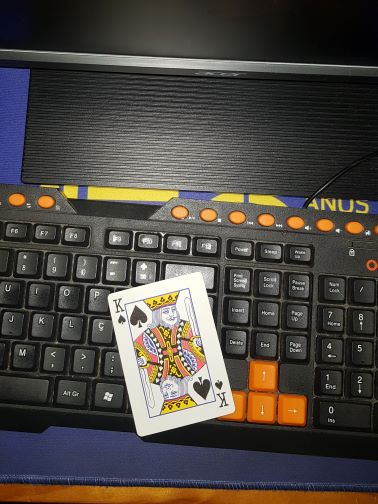king: (106, 271, 238, 439)
